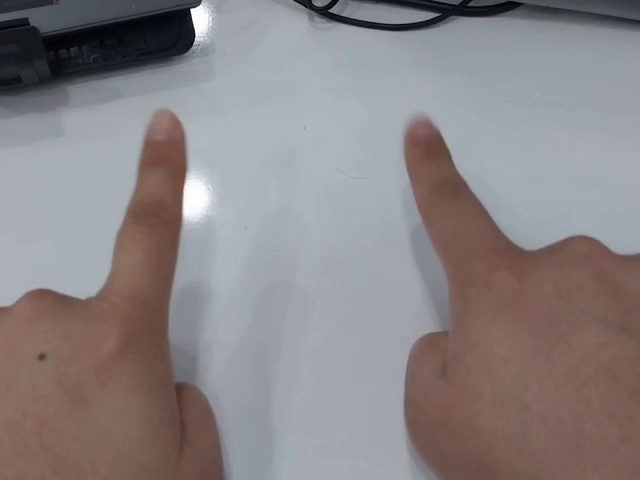fingers: (139, 106, 188, 174), (402, 116, 452, 168)
